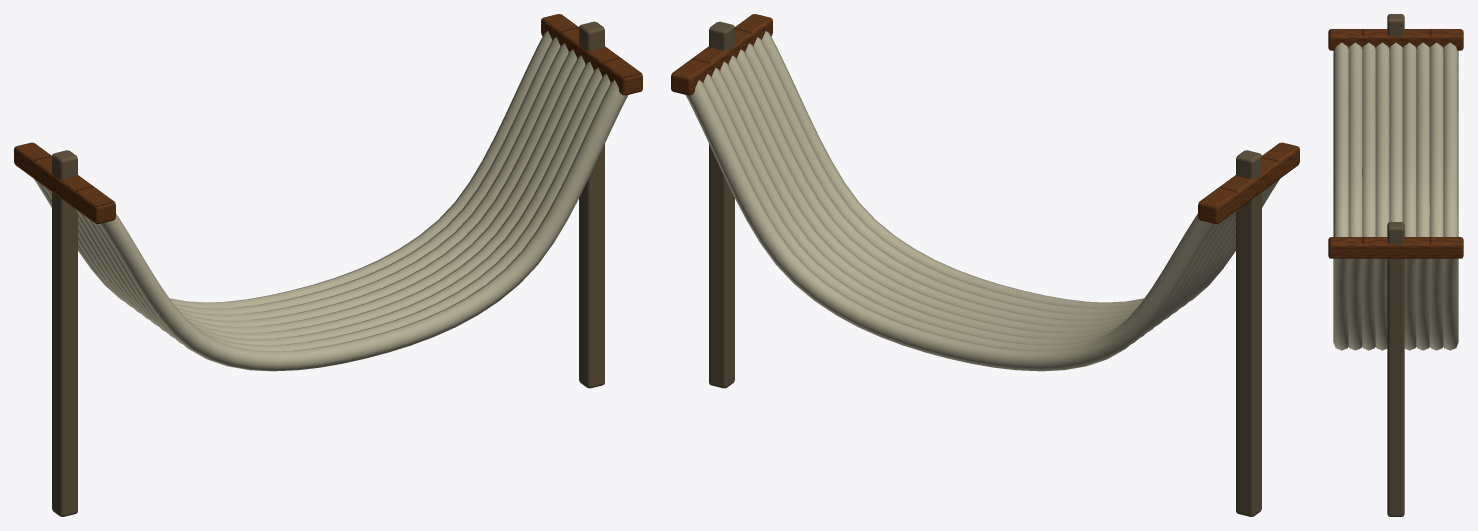
File: undercity-sewers-and-thieves-den-hammock-3a15f9fb__27236.glb
3 views of the same model, side by side, from view 1: azimuth 30°, elevation 25°; view 2: azimuth 150°, elevation 25°; view 3: azimuth 270°, elevation 25° (orthographic). The views are drawn at different scales.
Visible parts, largest first — view 1: hammock; view 2: hammock; view 3: hammock.
Part boxes in pixels (x1,y1,x2,y2): hammock: [14, 14, 642, 516]; hammock: [671, 14, 1299, 516]; hammock: [1328, 14, 1463, 516].
Size of the model in its own units: 2.08 by 1.3 by 0.55.
3 materials, 1 textured.
